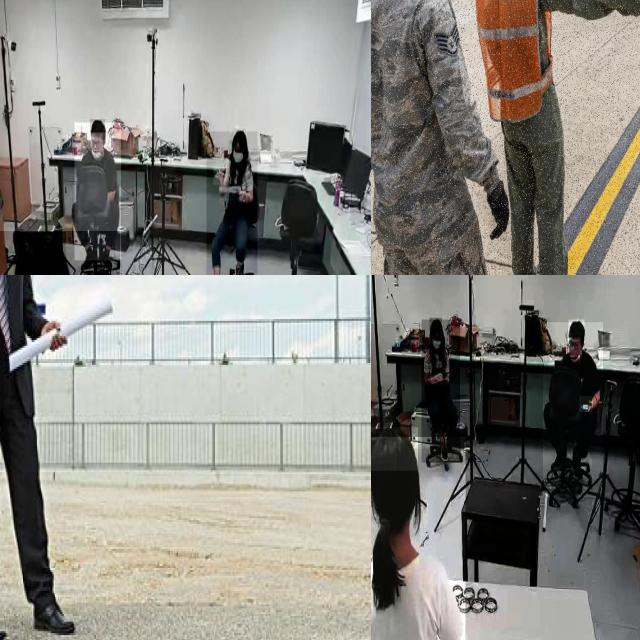face_mask: (231, 139, 245, 168)
face_nomask: (568, 337, 582, 358), (90, 133, 104, 152)
hand_glove: (430, 334, 444, 356)
hand_noglove: (579, 396, 593, 413), (213, 167, 224, 186), (431, 371, 443, 383), (238, 188, 248, 202)
head_nohelmet: (14, 232, 66, 274), (371, 427, 418, 471), (569, 319, 585, 336), (90, 119, 106, 133), (232, 129, 246, 142), (430, 318, 442, 332)
person: (449, 0, 640, 275), (371, 0, 503, 275), (371, 437, 465, 640), (543, 322, 603, 498), (206, 131, 257, 275), (75, 122, 122, 260), (422, 320, 461, 462)
shoes: (77, 242, 95, 274), (231, 259, 245, 275)
vest: (476, 0, 555, 132)
